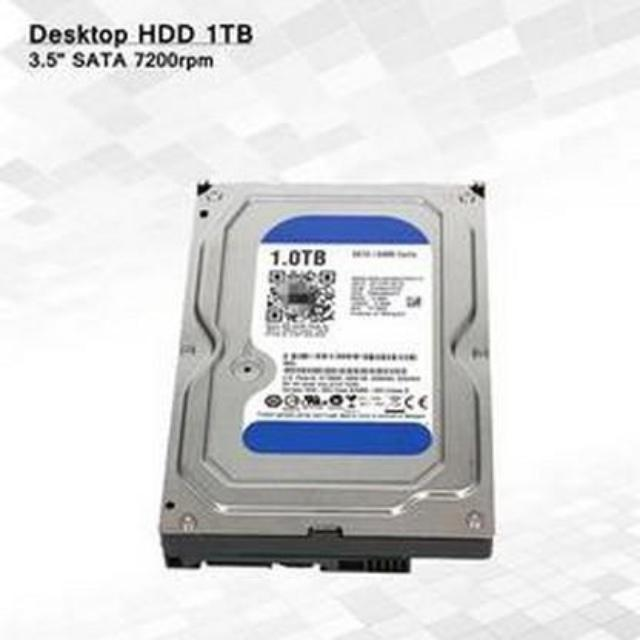DISK: (159, 176, 493, 578)
